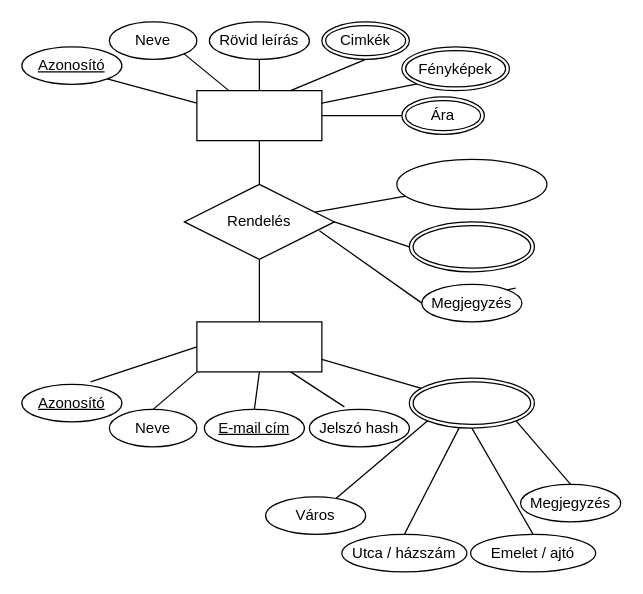
Some shapes in this 643 by 594 pixel diagram are drawn without their labels. Each missing label, with the box of its shape:
Címek: (408, 377, 534, 428)
Időpontok/állapot: (396, 158, 547, 209)
Pizza: (196, 89, 322, 141)
Szállítási cím: (408, 221, 534, 272)
Ügyvél / Vendég: (196, 321, 322, 372)
